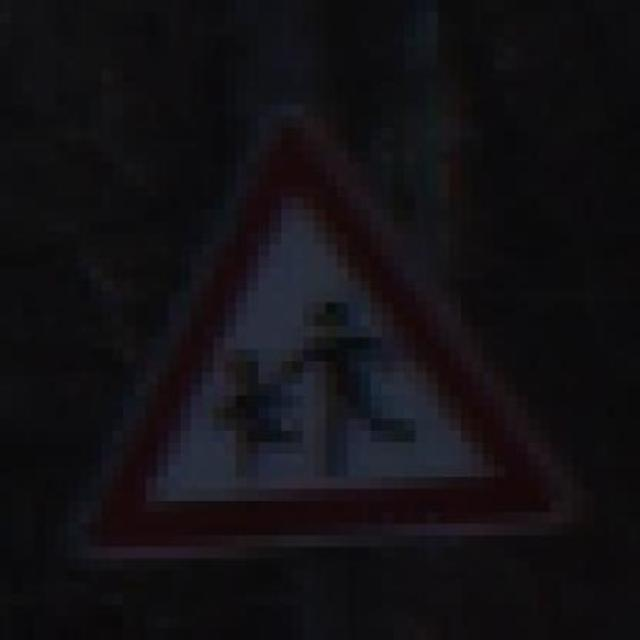Beware of children: (56, 81, 584, 558)
